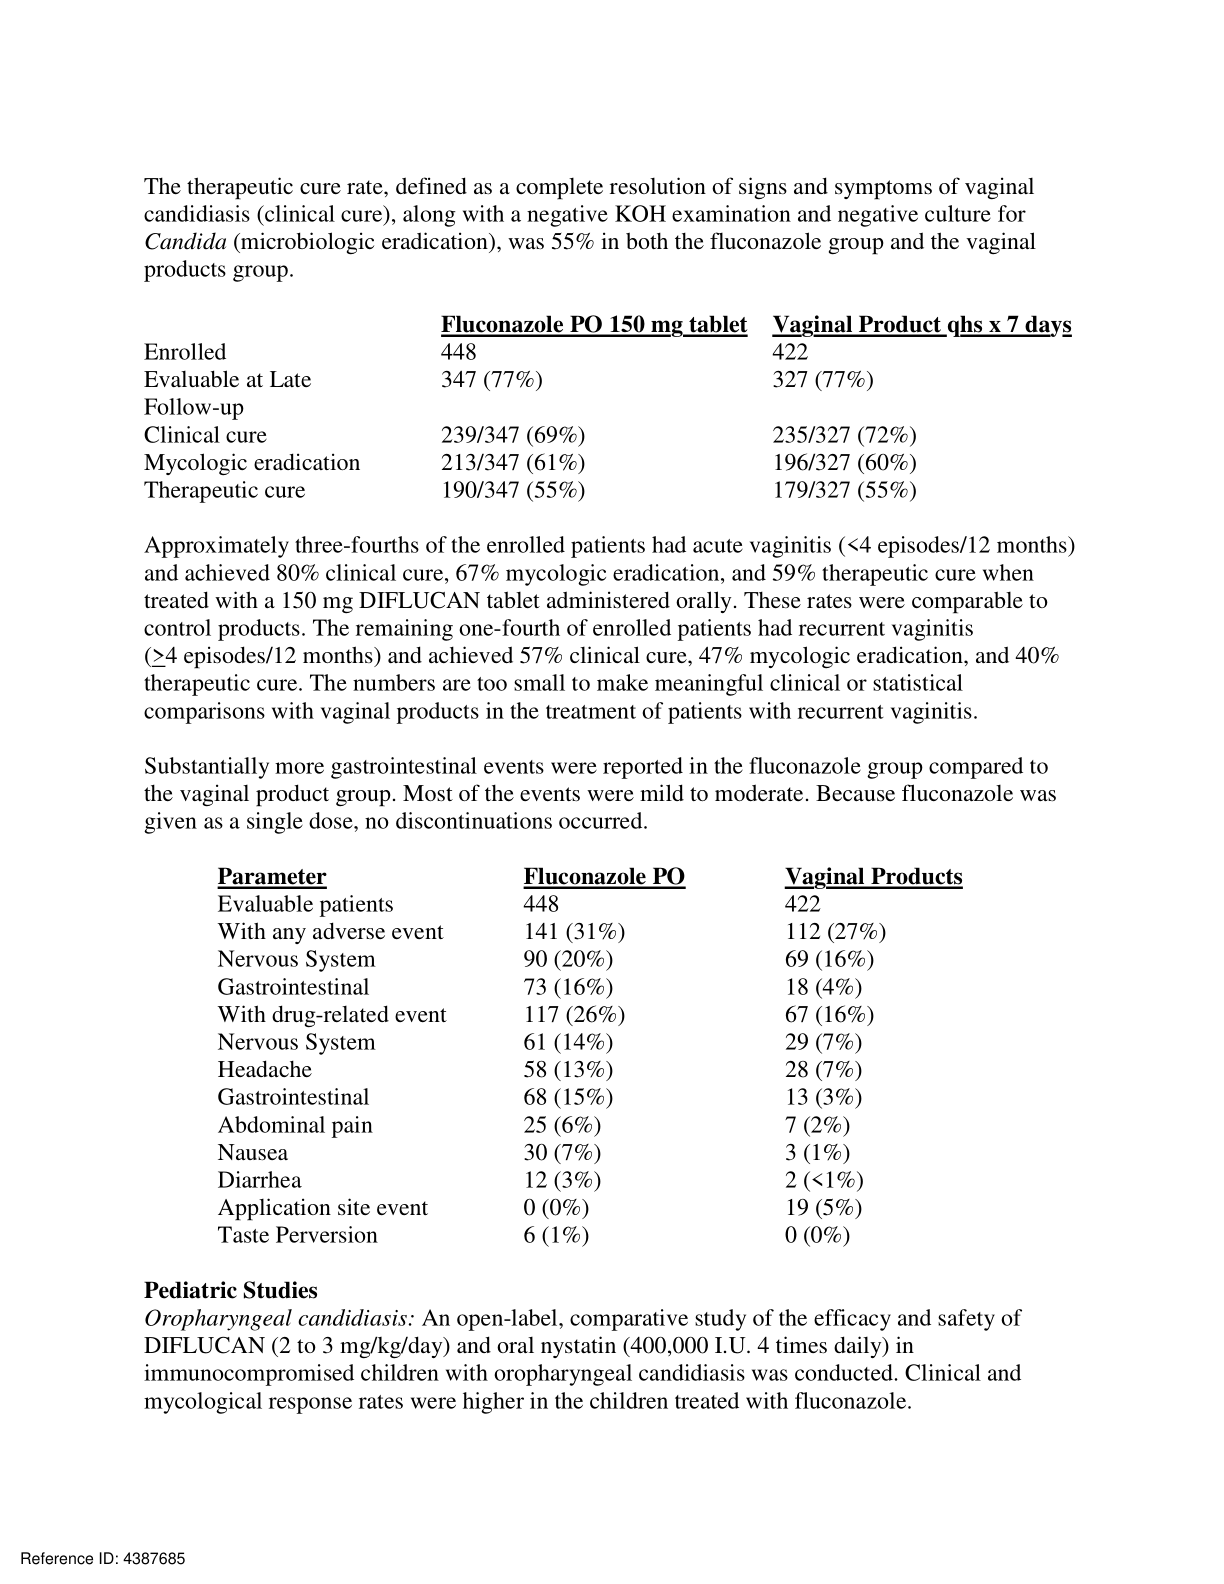nolines: (213, 861, 966, 1248), (141, 312, 1074, 503)
